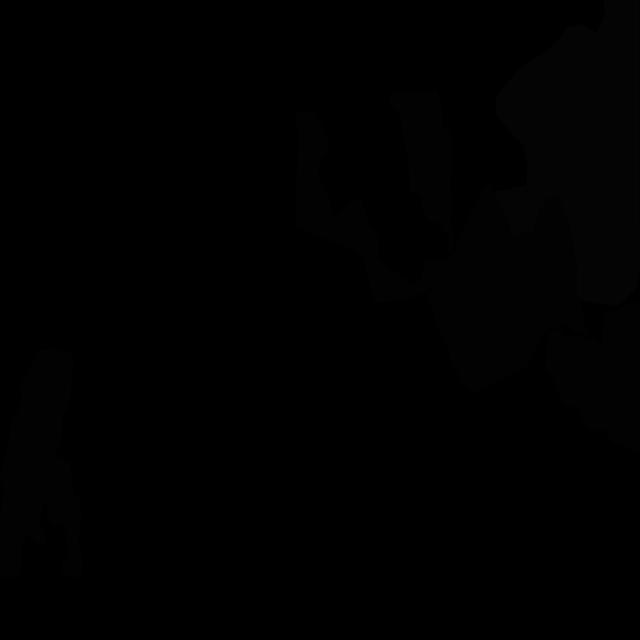cardboard: (427, 182, 589, 393), (294, 111, 447, 303), (0, 349, 83, 580), (544, 302, 640, 455), (388, 88, 454, 254)
soft_plastic: (495, 0, 640, 306)
